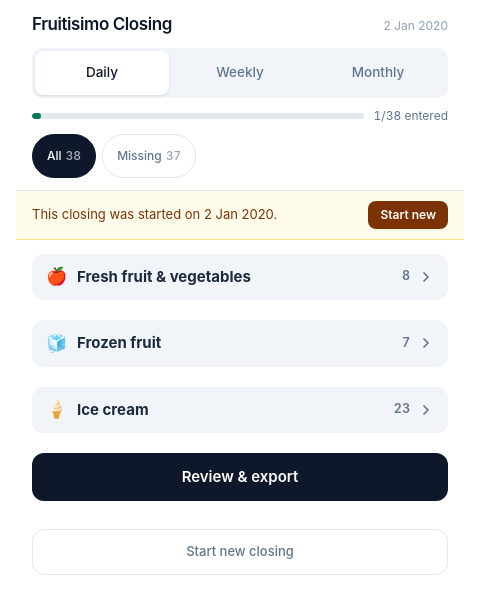
Scenario: a closing left over from another day › clears it when the offer to start a new one is taken
Click the button "Start new" at (408, 214), box x1=368 y1=200 x2=448 y2=228
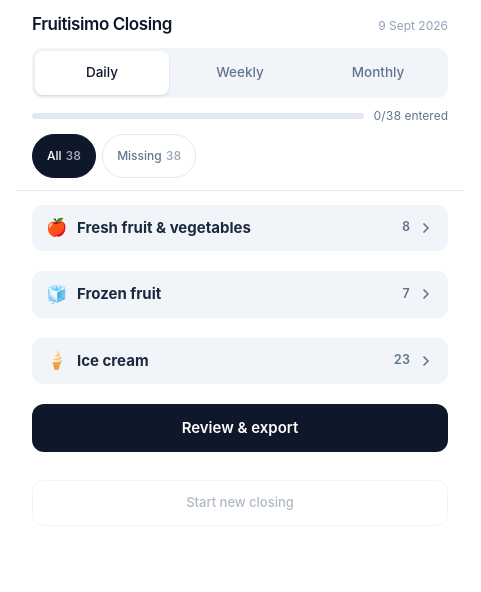
Check: the text "0/38 entered" is shown, box x1=374 y1=108 x2=448 y2=124
